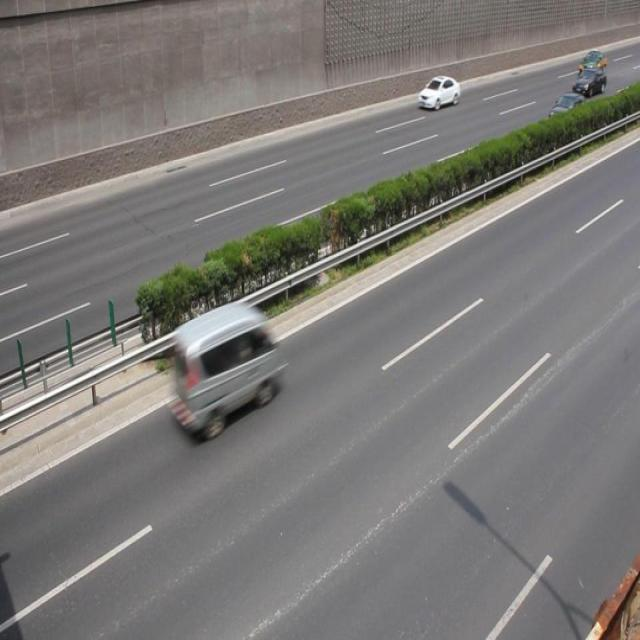car: (547, 94, 589, 135), (418, 76, 459, 111), (571, 67, 604, 100), (578, 51, 606, 76)
truck: (169, 304, 287, 438)
